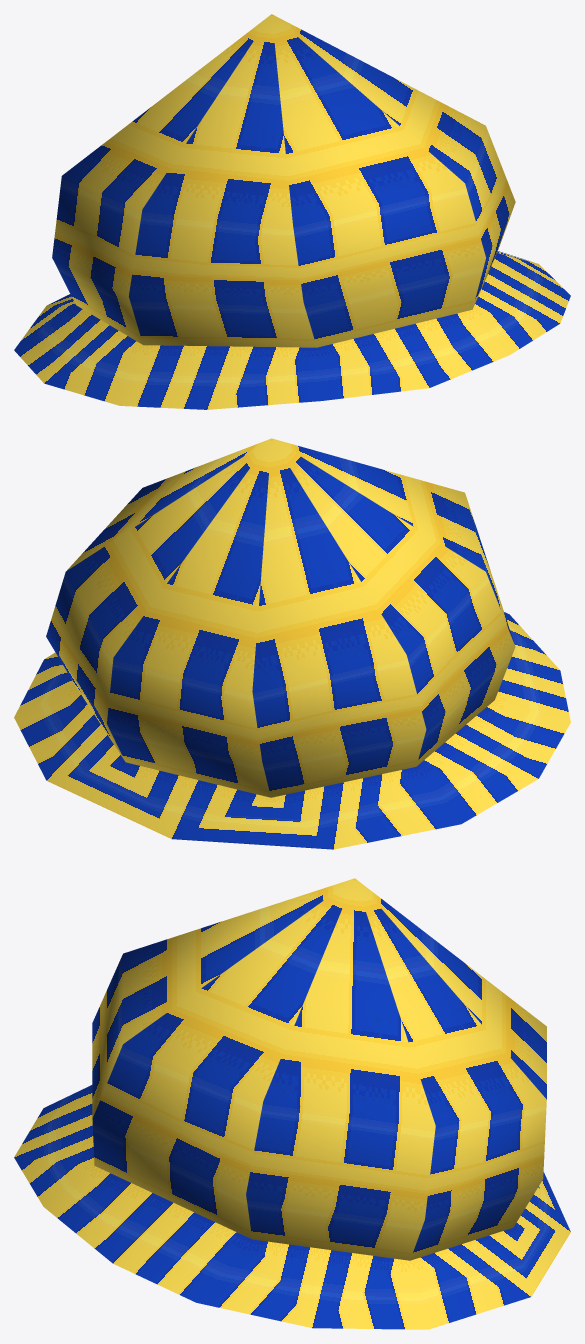
File: code_head12.gltf
3 renders of one model, top to bottom at view 1: azimuth 30°, elevation 25°; view 2: azimuth 150°, elevation 25°; view 3: azimuth 270°, elevation 25°, orthographic. The views are drawn at different scales.
Parts seen in each view (by area): view 1: code_head12; view 2: code_head12; view 3: code_head12.
Part boxes in pixels (x1,y1,x2,y2): code_head12: [14, 14, 570, 409]; code_head12: [14, 438, 570, 849]; code_head12: [14, 878, 570, 1329].
Bounding box in the file's own units: 0.8369 × 0.5295 × 0.7554.
Materials: 1 (1 with a texture image).
